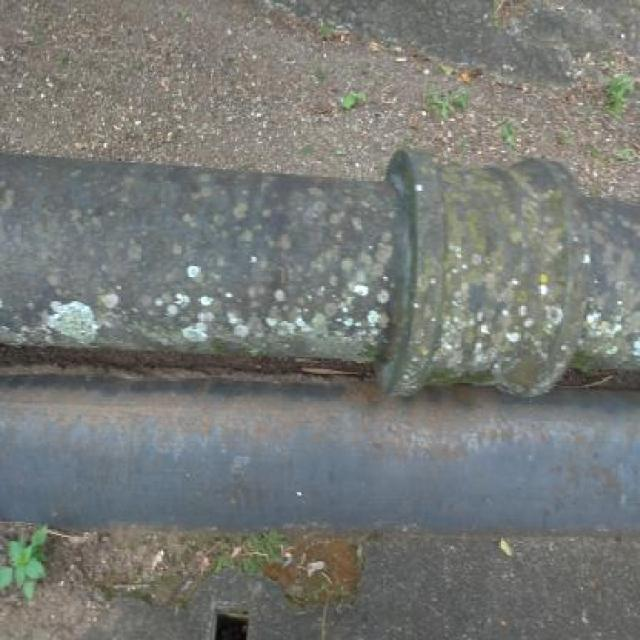gas: (3, 153, 640, 365), (5, 374, 640, 535)
